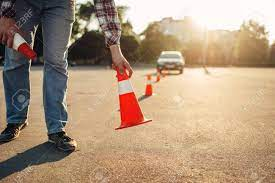car: (157, 52, 184, 75)
cone: (112, 63, 151, 130), (8, 33, 37, 61), (143, 74, 153, 98), (156, 67, 161, 83)
